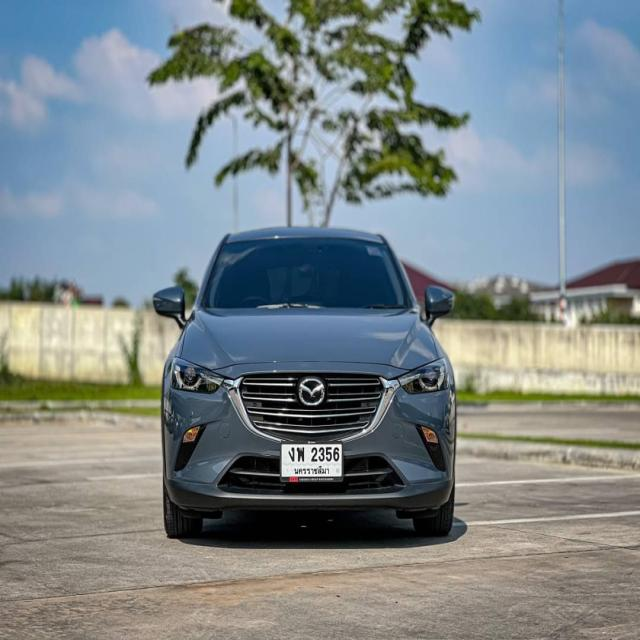license_plate: (278, 438, 346, 484)
